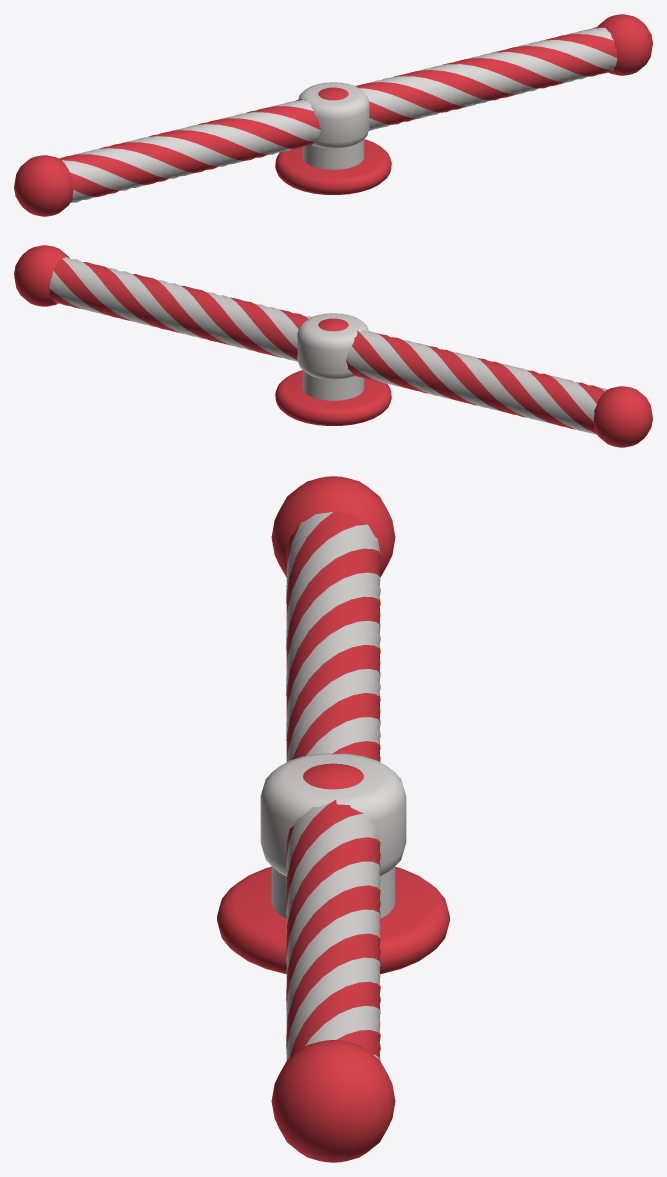
Rendered from spinner.glb.
3 renders of one model, top to bottom at view 1: azimuth 30°, elevation 25°; view 2: azimuth 150°, elevation 25°; view 3: azimuth 270°, elevation 25°, orthographic. The views are drawn at different scales.
Visible parts, largest first — view 1: bar, hub; view 2: bar, hub; view 3: bar, hub.
Part boxes in pixels (bbox=[...]): bar: bbox=[14, 14, 652, 216]; hub: bbox=[275, 87, 391, 194]; bar: bbox=[14, 245, 652, 447]; hub: bbox=[275, 318, 391, 425]; bar: bbox=[260, 476, 406, 1162]; hub: bbox=[217, 763, 449, 974].
Bounding box in the file's own units: 4 × 0.52 × 0.64.
